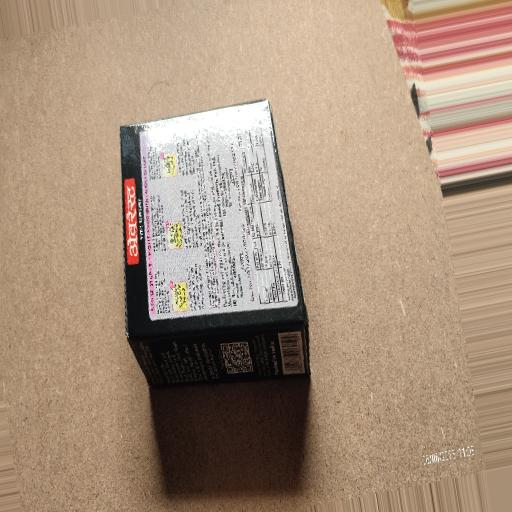Everest Chaat Masala: (70, 85, 377, 429)
